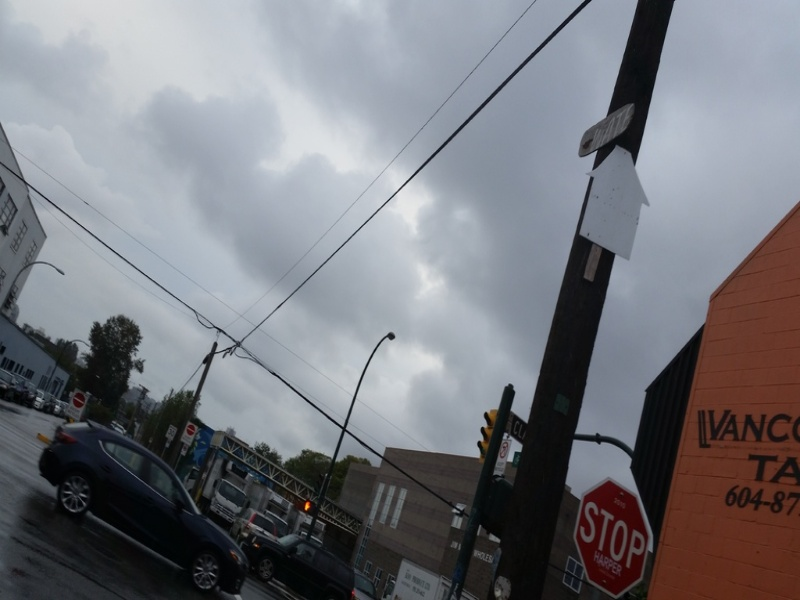stop: (572, 443, 674, 588)
